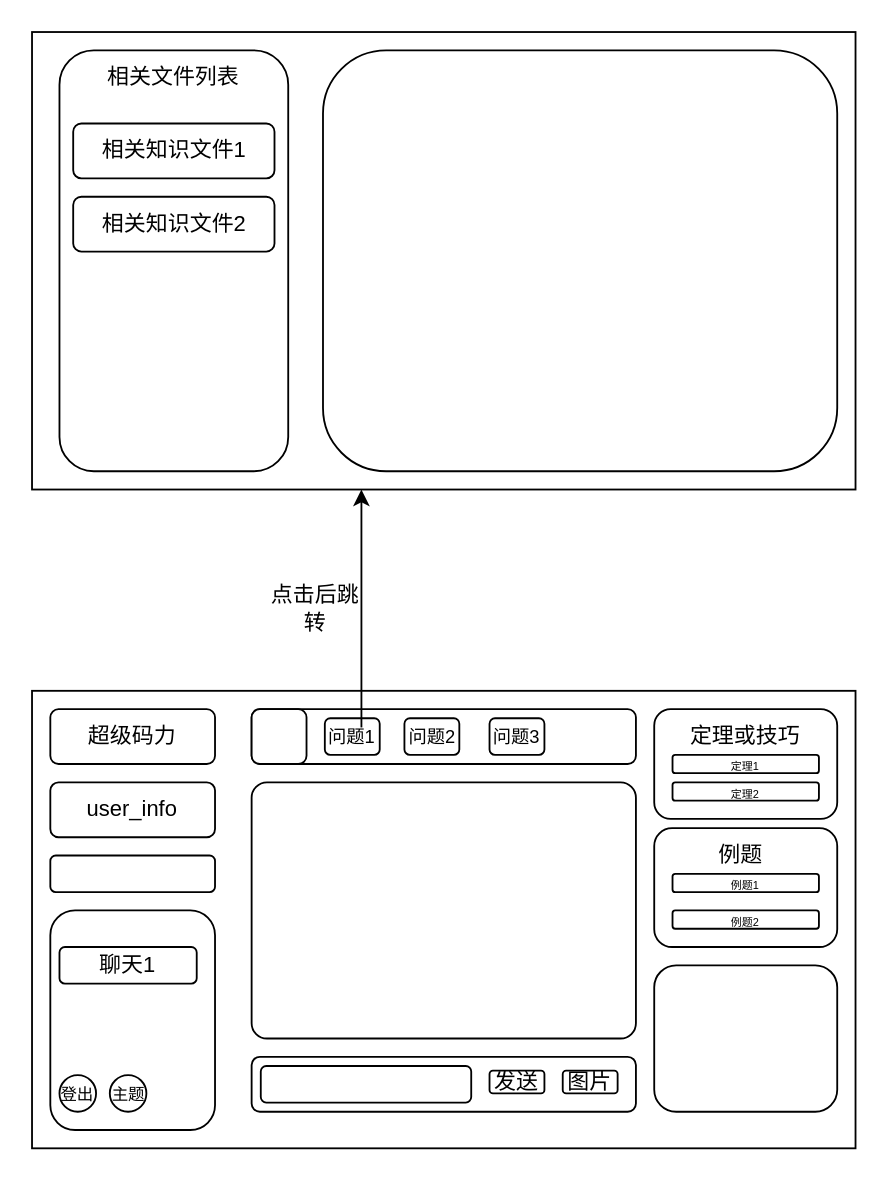
The diagram is 888 pixels wide and 1180 high, and some of its shapes have lost their labels. Here are the shapes that lost their labels. From the top down, the centre of each, then its label:
At [579,259]: "文件内容展示".
At [278,735]: "常见问题".
At [131,873]: "新建聊天".
At [443,909]: "对话框".
At [744,1037]: "例题定理展示".
At [365,1083]: "输入消息".
